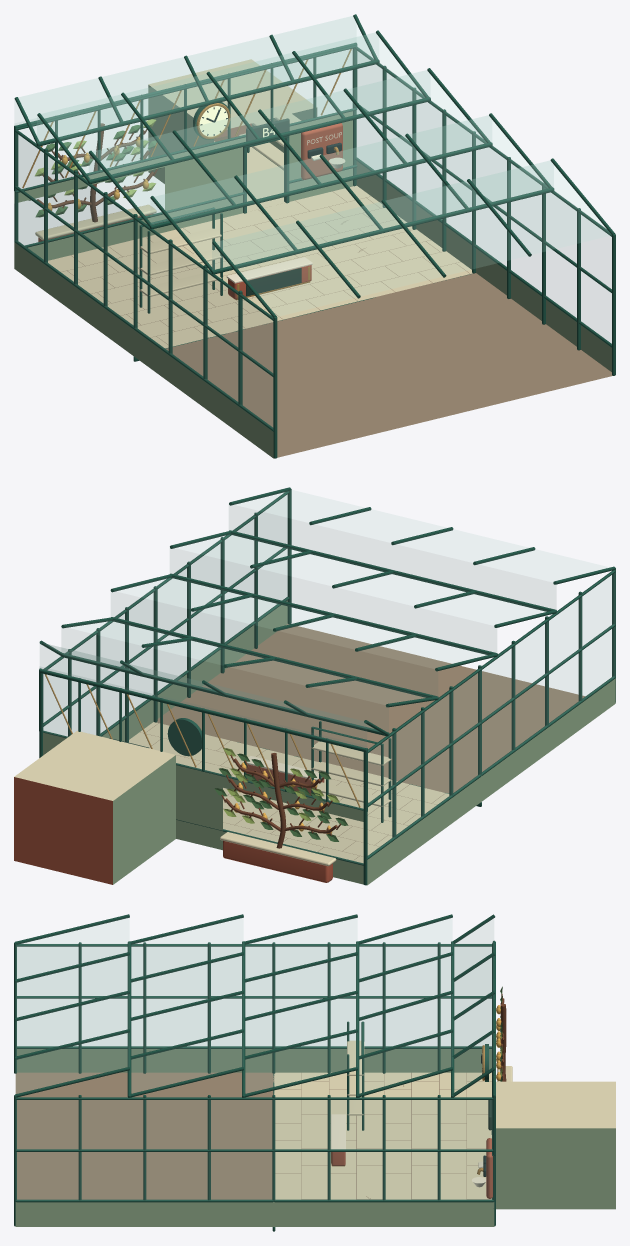
The model's file is depot.glb.
3 views of the same model, one above another, from view 1: azimuth 30°, elevation 25°; view 2: azimuth 150°, elevation 25°; view 3: azimuth 270°, elevation 25° (orthographic). The views are drawn at different scales.
Parts seen in each view (by area): view 1: Sawtooth roof - glass, Floor extension - Tile grout, Packing tiles - Pale limestone, West glazing - glass, Sawtooth roof - Bottle enamel, Stockroom facade - Celadon, West glazing - Bottle enamel, East glazing - Bottle enamel, West glazing - Celadon, East glazing - Celadon, East glazing - glass, Stockroom roof - Pale limestone (+17 smaller); view 2: Sawtooth roof - glass, Floor extension - Tile grout, West glazing - glass, Stockroom facade - glass, Sawtooth roof - Bottle enamel, Packing tiles - Pale limestone, Stockroom - Terracotta, West glazing - Bottle enamel, East glazing - Bottle enamel, West glazing - Celadon, Stockroom roof - Pale limestone, Stockroom facade - Celadon (+13 smaller); view 3: Sawtooth roof - glass, East glazing - glass, Floor extension - Tile grout, Packing tiles - Pale limestone, Sawtooth roof - Bottle enamel, East glazing - Celadon, Stockroom - Celadon, West glazing - Celadon, East glazing - Bottle enamel, West glazing - Bottle enamel, Stockroom roof - Pale limestone, Floor - Tile grout (+4 smaller).
Part boxes in pixels (<box>): Sawtooth roof - glass: <box>15,16,610,316</box>; Floor extension - Tile grout: <box>165,273,612,458</box>; Packing tiles - Pale limestone: <box>48,185,472,348</box>; West glazing - glass: <box>15,133,272,428</box>; Sawtooth roof - Bottle enamel: <box>14,14,615,317</box>; Stockroom facade - Celadon: <box>14,111,353,260</box>; West glazing - Bottle enamel: <box>14,130,277,458</box>; East glazing - Bottle enamel: <box>352,47,615,375</box>; West glazing - Celadon: <box>14,242,273,458</box>; East glazing - Celadon: <box>356,161,611,371</box>; East glazing - glass: <box>501,236,611,342</box>; Stockroom roof - Pale limestone: <box>148,59,316,129</box>; Sawtooth roof - glass: <box>40,490,608,745</box>; Floor extension - Tile grout: <box>157,624,584,793</box>; West glazing - glass: <box>368,573,614,856</box>; Stockroom facade - glass: <box>40,667,366,863</box>; Sawtooth roof - Bottle enamel: <box>39,487,615,751</box>; Packing tiles - Pale limestone: <box>129,722,449,863</box>; Stockroom - Terracotta: <box>14,777,112,884</box>; West glazing - Bottle enamel: <box>363,568,615,885</box>; East glazing - Bottle enamel: <box>39,489,291,757</box>; West glazing - Celadon: <box>367,678,615,885</box>; Stockroom roof - Pale limestone: <box>14,730,175,800</box>; Stockroom facade - Celadon: <box>43,732,363,884</box>; Sawtooth roof - glass: <box>16,917,493,1093</box>; East glazing - glass: <box>16,1100,493,1200</box>; Floor extension - Tile grout: <box>15,1072,273,1199</box>; Packing tiles - Pale limestone: <box>274,1072,491,1199</box>; Sawtooth roof - Bottle enamel: <box>15,914,495,1097</box>; East glazing - Celadon: <box>15,1202,494,1226</box>; Stockroom - Celadon: <box>496,1128,615,1209</box>; West glazing - Celadon: <box>17,1049,491,1072</box>; East glazing - Bottle enamel: <box>14,1095,495,1226</box>; West glazing - Bottle enamel: <box>14,942,491,1073</box>; Stockroom roof - Pale limestone: <box>496,1081,615,1128</box>; Floor - Tile grout: <box>274,1072,491,1199</box>.
Size of the model in its own units: 19.24 by 9.54 by 31.68.
